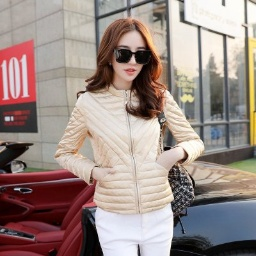face: (92, 20, 164, 92)
